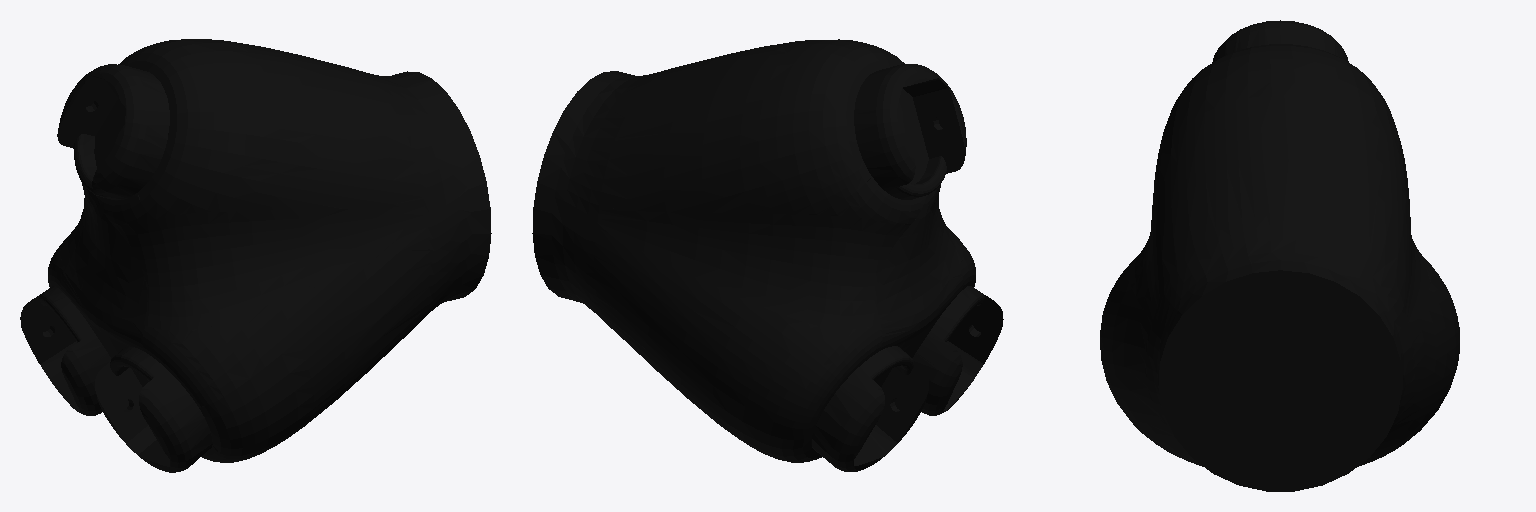
The robot description file, URDF, robot "jaco_robot":
<?xml version="1.0" encoding="utf-8"?>
<!-- =================================================================================== -->
<!-- |    This document was autogenerated by xacro from urdf/jaco_robot.urdf.xacro     | -->
<!-- |    EDITING THIS FILE BY HAND IS NOT RECOMMENDED                                 | -->
<!-- =================================================================================== -->
<robot name="jaco_robot" xmlns:controller="http://playerstage.sourceforge.net/gazebo/xmlschema/#controller" xmlns:interface="http://playerstage.sourceforge.net/gazebo/xmlschema/#interface" xmlns:sensor="http://playerstage.sourceforge.net/gazebo/xmlschema/#sensor">
  <link name="base_link">
  </link>
  <!-- fake cylinder which is actually a box -->
  <!--xacro:macro name="cyl_inertia" params="mass r h ">
      <mass value="${mass}"/>
      <inertia
      ixx="${mass / 12.0 * (r*r + h*h)}" ixy="0.0" ixz="0.0"
      iyy="${mass / 12.0 * (h*h + r*r)}" iyz="0.0"
      izz="${mass / 12.0 * (r*r + r*r)}"/>
  </xacro:macro-->
  <!-- ***************** MODEL CORRECTIONS ************************* -->
  <!-- *************************************************************** -->
  <!-- from measurements, pitch is -0.2293 -->
  <!-- MODEL_FIX transforms from wrist to finger mounts -->
  <!--<xacro:property name="f_thb_m_xyz" value=" 0.037  0.001  0.106" />
  <xacro:property name="f_idx_m_xyz" value="-0.034  0.022 0.106" />
  <xacro:property name="f_pnk_m_xyz" value="-0.034 -0.022 0.106" />
  <xacro:property name="f_thb_m_rpy" value="0 -0.2658 ${M_PI-0.226892}" /> 
  <xacro:property name="f_idx_m_rpy" value="0 -0.2293 -0.191986" />
  <xacro:property name="f_pnk_m_rpy" value="0 -0.2293 0.191986" />-->

  <joint name="jaco_arm_joint" type="fixed">
    <origin rpy="0 0 0" xyz="0 0 0"/>
    <parent link="base_link"/>
    <child link="jaco_6_hand_limb"/>
  </joint>

  <link name="jaco_6_hand_limb">
    <inertial>
      <origin rpy="0 0 0" xyz="-0.0555917045329114 -7.25586546752172E-05 -0.00317411883668722"/>
      <mass value="0.2"/>
      <inertia ixx="0.0007852635256" ixy="0" ixz="0" iyy="0.0007852635256" iyz="0" izz="0.00121"/>
    </inertial>
    <visual>
      <origin rpy="0 0 0" xyz="0 0 0"/>
      <geometry>
        <mesh filename="./meshes/jaco2/6_hand_limb.STL" scale="1.0 1.0 1.0"/>
      </geometry>
      <material name="">
        <color rgba="0.1 0.1 0.1 1"/>
      </material>
    </visual>

    <collision>
      <origin rpy="0 0 0" xyz="0 0 0"/>
      <geometry>
        <mesh filename="./meshes/jaco2/6_hand_limb.STL" scale="1.0 1.0 1.0"/>
      </geometry>
    </collision>
  </link>


  <link name="jaco_fingers_base_link">
    <inertial>
      <origin rpy="0 0 0" xyz="0 0 0"/>
      <mass value="0.001"/>
      <inertia ixx="3.33332e-08" ixy="0" ixz="0" iyy="3.33332e-08" iyz="0" izz="5e-08"/>
    </inertial>
  </link>
  <!-- this joint is only to align the coordinate system with the kinova specification frame -->
  <joint name="jaco_fingers_base_joint" type="fixed">
    <origin rpy="-1.57079632679 3.14159265359 1.57079632679" xyz="0 0 0"/>
    <parent link="jaco_6_hand_limb"/>
    <child link="jaco_fingers_base_link"/>
  </joint>

  <!-- ...........................  -->
  <!--      FINGERS          -->
  <!-- ...........................  -->
  <link name="jaco_7_finger_mount_index">
    <inertial>
      <origin rpy="0 0 0" xyz="0 0.00706399246397285 -0.00176078508424846"/>
      <mass value="0.006465"/>
      <inertia ixx="7.8441686232e-07" ixy="0" ixz="0" iyy="7.8441686232e-07" iyz="0" izz="1.04733e-06"/>
    </inertial>
    <visual>
      <origin rpy="1.57079632679 0 1.57079632679" xyz="0 0 0"/>
      <geometry>
        <mesh filename="./meshes/jaco2/7_finger_mount_index.STL"/>
      </geometry>
      <material name="">
        <color rgba="0.5 0.5 0.5 1"/>
      </material>
    </visual>
    <collision>
      <origin rpy="1.57079632679 0 1.57079632679" xyz="0 0 0"/>
      <geometry>
        <mesh filename="./meshes/jaco2/7_finger_mount_index.STL"/>
      </geometry>
    </collision>
  </link>
  <joint name="jaco_finger_mount_index_fixed" type="fixed">
    <!--- remark 2014: damping greater than 0.1 (0.2) lead to model break downs when testing it bit by bit -->
    <!--- remark jan 2016: damping and friction higher than 0.005 required very high forces in order for the fingers
              to move at all, and then they mooved only slowly. -->
    <!--dynamics damping="0.1" friction="1.0"/-->
    <dynamics damping="0.005" friction="0.005"/>
    <origin rpy="0 -0.2293 -0.191986" xyz="-0.034  0.022 0.095"/>
    <parent link="jaco_fingers_base_link"/>
    <child link="jaco_7_finger_mount_index"/>
    <axis xyz="0 0 0"/>
  </joint>
  <!-- ...........................        -->
  <link name="jaco_8_finger_index">
    <inertial>
      <origin rpy="0 0 0" xyz="-0.0181403689626489 0 0.00272470933850985"/>
      <mass value="0.01845"/>
      <inertia ixx="6.37560262249e-06" ixy="0" ixz="0" iyy="6.37560262249e-06" iyz="0" izz="1.68125625e-06"/>
    </inertial>
    <!--     <visual>
      <origin xyz="0 0 0" rpy="0 0 0" />
      <geometry>
        <sphere radius="0.005"/>
      </geometry>
      <material name="">
        <color rgba="0.10 0.10 0.10 1" />
      </material>
    </visual>
-->
    <visual>
      <origin rpy="3.14159265359 1.1780972445 0" xyz="0 0 0"/>
      <geometry>
        <mesh filename="./meshes/jaco2/8_finger_index.STL"/>
      </geometry>
      <material name="">
        <color rgba="0.50 0.50 0.50 1"/>
      </material>
    </visual>
    <collision>
      <origin rpy="3.14159265359 1.1780972445 0" xyz="0 0 0"/>
      <geometry>
        <mesh filename="./meshes/jaco2/8_finger_index.STL"/>
      </geometry>
    </collision>
  </link>
  <joint name="jaco_finger_joint_0" type="revolute">
    <!--- remark 2014: damping greater than 0.1 (0.2) lead to model break downs when testing it bit by bit -->
    <!--- remark jan 2016: damping and friction higher than 0.005 required very high forces in order for the fingers
              to move at all, and then they mooved only slowly. -->
    <!--dynamics damping="0.1" friction="1.0"/-->
    <dynamics damping="0.005" friction="0.005"/>
    <origin rpy="0 -0.34 -0.191986" xyz="-0.0276  0.0204 0.11"/>
    <parent link="jaco_fingers_base_link"/>
    <child link="jaco_8_finger_index"/>
    <axis xyz="0 1 0"/>
    <limit effort="1.5" lower="-0.0045" upper="1.05" velocity="0.2"/>
  </joint>
  <!-- ...........................        -->
  <link name="jaco_9_finger_index_tip">
    <inertial>
      <origin rpy="0 0 0" xyz="-0.01340812509202 -4.52693266978291E-07 0.0118561361126153"/>
      <mass value="0.0122"/>
      <inertia ixx="2.6850059266e-06" ixy="0" ixz="0" iyy="2.6850059266e-06" iyz="0" izz="8.784e-07"/>
    </inertial>
    <!--     <visual>
      <origin xyz="0 0 0" rpy="0 0 0" />
      <geometry>
        <sphere radius="0.005"/>
      </geometry>
      <material name="">
        <color rgba="0.10 0.10 0.10 1" />
      </material>
    </visual>
-->
    <visual>
      <origin rpy="0 1.57079632679 3.14159265359" xyz="0 0 0"/>
      <geometry>
        <mesh filename="./meshes/jaco2/9_finger_index_tip.STL" scale="1 1 1"/>
      </geometry>
      <material name="">
        <color rgba="0.5 0.5 0.5 1"/>
      </material>
    </visual>
    <collision>
      <origin rpy="0 1.57079632679 3.14159265359" xyz="0 0 0"/>
      <geometry>
        <mesh filename="./meshes/jaco2/9_finger_index_tip.STL" scale="1 1 1"/>
      </geometry>
    </collision>
  </link>
  <joint name="jaco_finger_joint_1" type="fixed">
    <!--- remark 2014: damping greater than 0.1 (0.2) lead to model break downs when testing it bit by bit -->
    <!--- remark jan 2016: damping and friction higher than 0.005 required very high forces in order for the fingers
              to move at all, and then they mooved only slowly. -->
    <!--dynamics damping="0.1" friction="1.0"/-->
    <dynamics damping="0.005" friction="0.005"/>
    <origin rpy="0 0 0" xyz="0 0 0.0441"/>
    <parent link="jaco_8_finger_index"/>
    <child link="jaco_9_finger_index_tip"/>
  </joint>
  <!-- ...........................        -->
  <link name="jaco_7_finger_mount_thumb">
    <inertial>
      <origin rpy="0 0 0" xyz="-2.65251193937339E-07 0.00706398229186052 -0.00176078674955921"/>
      <mass value="0.006465"/>
      <inertia ixx="7.8441686232e-07" ixy="0" ixz="0" iyy="7.8441686232e-07" iyz="0" izz="1.04733e-06"/>
    </inertial>
    <visual>
      <origin rpy="1.57079632679 0 1.57079632679" xyz="0 0 0"/>
      <geometry>
        <mesh filename="./meshes/jaco2/7_finger_mount_thumb.STL"/>
      </geometry>
      <material name="">
        <color rgba="0.50 0.50 0.50 1"/>
      </material>
    </visual>
    <collision>
      <origin rpy="1.57079632679 0 1.57079632679" xyz="0 0 0"/>
      <geometry>
        <mesh filename="./meshes/jaco2/7_finger_mount_thumb.STL"/>
      </geometry>
    </collision>
  </link>
  <joint name="jaco_finger_mount_thumb_fixed" type="fixed">
    <!--- remark 2014: damping greater than 0.1 (0.2) lead to model break downs when testing it bit by bit -->
    <!--- remark jan 2016: damping and friction higher than 0.005 required very high forces in order for the fingers
              to move at all, and then they mooved only slowly. -->
    <!--dynamics damping="0.1" friction="1.0"/-->
    <dynamics damping="0.005" friction="0.005"/>
    <origin rpy="0 -0.2658 2.91470065359" xyz=" 0.037  0.001  0.095"/>
    <parent link="jaco_fingers_base_link"/>
    <child link="jaco_7_finger_mount_thumb"/>
  </joint>
  <!-- ...........................        -->
  <link name="jaco_8_finger_thumb">
    <inertial>
      <origin rpy="0 0 0" xyz="-0.0181403317517619 -3.13818432741766E-07 0.00272473343106584"/>
      <mass value="0.0184"/>
      <inertia ixx="6.3583245666e-06" ixy="0" ixz="0" iyy="6.3583245666e-06" iyz="0" izz="1.6767e-06"/>
    </inertial>
    <!--     <visual>
      <origin xyz="0 0 0" rpy="0 0 0" />
      <geometry>
        <sphere radius="0.005"/>
      </geometry>
      <material name="">
        <color rgba="0.10 0.10 0.10 1" />
      </material>
    </visual>
-->
    <visual>
      <origin rpy="3.14159265359 1.1780972445 0" xyz="0 0 0"/>
      <geometry>
        <mesh filename="./meshes/jaco2/8_finger_thumb.STL"/>
      </geometry>
      <material name="">
        <color rgba="0.5 0.5 0.5 1"/>
      </material>
    </visual>
    <collision>
      <origin rpy="3.14159265359 1.1780972445 0" xyz="0 0 0"/>
      <geometry>
        <mesh filename="./meshes/jaco2/8_finger_thumb.STL"/>
      </geometry>
    </collision>
  </link>
  <joint name="jaco_finger_joint_2" type="revolute">
    <!--- remark 2014: damping greater than 0.1 (0.2) lead to model break downs when testing it bit by bit -->
    <!--- remark jan 2016: damping and friction higher than 0.005 required very high forces in order for the fingers
              to move at all, and then they mooved only slowly. -->
    <!--dynamics damping="0.1" friction="1.0"/-->
    <dynamics damping="0.005" friction="0.005"/>
    <origin rpy="0 -0.37 2.91470065359" xyz=" 0.0319  0.003  0.11"/>
    <parent link="jaco_fingers_base_link"/>
    <child link="jaco_8_finger_thumb"/>
    <axis xyz="0 1 0"/>
    <limit effort="1.5" lower="-0.0045" upper="1.05" velocity="0.2"/>
  </joint>
  <!-- ...........................        -->
  <link name="jaco_9_finger_thumb_tip">
    <inertial>
      <origin rpy="0 0 0" xyz="-0.0134080639046228 -4.56622786070351E-07 0.0118561154422042"/>
      <mass value="0.0122"/>
      <inertia ixx="2.6850059266e-06" ixy="0" ixz="0" iyy="2.6850059266e-06" iyz="0" izz="8.784e-07"/>
    </inertial>
    <visual>
      <origin rpy="0 1.57079632679 3.14159265359" xyz="0 0 0"/>
      <geometry>
        <mesh filename="./meshes/jaco2/9_finger_thumb_tip.STL" scale="1 1 1"/>
      </geometry>
      <material name="">
        <color rgba="0.5 0.5 0.5 1"/>
      </material>
    </visual>
    <collision>
      <origin rpy="0 1.57079632679 3.14159265359" xyz="0 0 0"/>
      <geometry>
        <mesh filename="./meshes/jaco2/9_finger_thumb_tip.STL" scale="1 1 1"/>
      </geometry>
    </collision>
  </link>
  <joint name="jaco_finger_joint_3" type="fixed">
    <!--- remark 2014: damping greater than 0.1 (0.2) lead to model break downs when testing it bit by bit -->
    <!--- remark jan 2016: damping and friction higher than 0.005 required very high forces in order for the fingers
              to move at all, and then they mooved only slowly. -->
    <!--dynamics damping="0.1" friction="1.0"/-->
    <dynamics damping="0.005" friction="0.005"/>
    <origin rpy="0 0 0" xyz="0 0 0.0441"/>
    <parent link="jaco_8_finger_thumb"/>
    <child link="jaco_9_finger_thumb_tip"/>
  </joint>
  <!-- ...........................        -->
  <link name="jaco_7_finger_mount_pinkie">
    <inertial>
      <origin rpy="0 0 0" xyz="0 0.00706399455294665 -0.00176077690193762"/>
      <mass value="0.00646"/>
      <inertia ixx="7.8381019808e-07" ixy="0" ixz="0" iyy="7.8381019808e-07" iyz="0" izz="1.04652e-06"/>
    </inertial>
    <visual>
      <origin rpy="1.57079632679 0 1.57079632679" xyz="0 0 0"/>
      <geometry>
        <mesh filename="./meshes/jaco2/7_finger_mount_pinkie.STL"/>
      </geometry>
      <material name="">
        <color rgba="0.5 0.5 0.5 1"/>
      </material>
    </visual>
    <collision>
      <origin rpy="1.57079632679 0 1.57079632679" xyz="0 0 0"/>
      <geometry>
        <mesh filename="./meshes/jaco2/7_finger_mount_pinkie.STL"/>
      </geometry>
    </collision>
  </link>
  <joint name="jaco_finger_mount_pinkie_fixed" type="fixed">
    <!--- remark 2014: damping greater than 0.1 (0.2) lead to model break downs when testing it bit by bit -->
    <!--- remark jan 2016: damping and friction higher than 0.005 required very high forces in order for the fingers
              to move at all, and then they mooved only slowly. -->
    <!--dynamics damping="0.1" friction="1.0"/-->
    <dynamics damping="0.005" friction="0.005"/>
    <origin rpy="0 -0.2293 0.191986" xyz="-0.034 -0.022 0.095"/>
    <parent link="jaco_fingers_base_link"/>
    <child link="jaco_7_finger_mount_pinkie"/>
  </joint>
  <!-- ...........................        -->
  <link name="jaco_8_finger_pinkie">
    <inertial>
      <origin rpy="0 0 0" xyz="-0.0181404164708055 -2.87009015777565E-07 0.00272467774606585"/>
      <mass value="0.01845"/>
      <inertia ixx="6.37560262249e-06" ixy="0" ixz="0" iyy="6.37560262249e-06" iyz="0" izz="1.68125625e-06"/>
    </inertial>
    <!--     <visual>
      <origin xyz="0 0 0" rpy="0 0 0" />
      <geometry>
        <sphere radius="0.005"/>
      </geometry>
      <material name="">
        <color rgba="0.10 0.10 0.10 1" />
      </material>
    </visual>
-->
    <visual>
      <origin rpy="3.14159265359 1.1780972445 0" xyz="0 0 0"/>
      <geometry>
        <mesh filename="./meshes/jaco2/8_finger_pinkie.STL"/>
      </geometry>
      <material name="">
        <color rgba="0.5 0.5 0.5 1"/>
      </material>
    </visual>
    <collision>
      <origin rpy="3.14159265359 1.1780972445 0" xyz="0 0 0"/>
      <geometry>
        <mesh filename="./meshes/jaco2/8_finger_pinkie.STL"/>
      </geometry>
    </collision>
  </link>
  <joint name="jaco_finger_joint_4" type="revolute">
    <!--- remark 2014: damping greater than 0.1 (0.2) lead to model break downs when testing it bit by bit -->
    <!--- remark jan 2016: damping and friction higher than 0.005 required very high forces in order for the fingers
              to move at all, and then they mooved only slowly. -->
    <!--dynamics damping="0.1" friction="1.0"/-->
    <dynamics damping="0.005" friction="0.005"/>
    <origin rpy="0 -0.34 0.191986" xyz="-0.0276 -0.0204 0.11"/>
    <parent link="jaco_fingers_base_link"/>
    <child link="jaco_8_finger_pinkie"/>
    <axis xyz="0 1 0"/>
    <limit effort="1.5" lower="-0.0045" upper="1.05" velocity="0.2"/>
  </joint>
  <!-- ...........................        -->
  <link name="jaco_9_finger_pinkie_tip">
    <inertial>
      <origin rpy="0 0 0" xyz="-0.0134 0 0.01185"/>
      <mass value="0.0122"/>
      <inertia ixx="2.6850059266e-06" ixy="0" ixz="0" iyy="2.6850059266e-06" iyz="0" izz="8.784e-07"/>
    </inertial>
    <visual>
      <origin rpy="0 1.57079632679 3.14159265359" xyz="0 0 0"/>
      <geometry>
        <mesh filename="./meshes/jaco2/9_finger_pinkie_tip.STL" scale="1 1 1"/>
      </geometry>
      <material name="">
        <color rgba="0.5 0.5 0.5 1"/>
      </material>
    </visual>
    <collision>
      <origin rpy="0 1.57079632679 3.14159265359" xyz="0 0 0"/>
      <geometry>
        <mesh filename="./meshes/jaco2/9_finger_pinkie_tip.STL" scale="1 1 1"/>
      </geometry>
    </collision>
  </link>
  <joint name="jaco_finger_joint_5" type="fixed">
    <!--- remark 2014: damping greater than 0.1 (0.2) lead to model break downs when testing it bit by bit -->
    <!--- remark jan 2016: damping and friction higher than 0.005 required very high forces in order for the fingers
              to move at all, and then they mooved only slowly. -->
    <!--dynamics damping="0.1" friction="1.0"/-->
    <dynamics damping="0.005" friction="0.005"/>
    <origin rpy="0 0 0" xyz="0 0 0.0441"/>
    <parent link="jaco_8_finger_pinkie"/>
    <child link="jaco_9_finger_pinkie_tip"/>
  </joint>
</robot>

--- Render facts (derived) ---
Views: 3 orthographic renders of the robot side by side, from view 1: azimuth 30°, elevation 25°; view 2: azimuth 150°, elevation 25°; view 3: azimuth 270°, elevation 25°.
Robot: jaco_robot — 12 links, 11 joints (3 revolute, 8 fixed); root link base_link; default pose: all joints at 0.
Links seen in each view (by area): view 1: jaco_6_hand_limb; view 2: jaco_6_hand_limb; view 3: jaco_6_hand_limb.
Boxes of the visible links, x1,y1,x2,y2 form: jaco_6_hand_limb: (20, 39, 491, 472); jaco_6_hand_limb: (532, 39, 1003, 471); jaco_6_hand_limb: (1100, 20, 1459, 491).
Bounding box of the posed robot: 0.1113 × 0.0928 × 0.1164 m (x, y, z).
1 mesh visuals loaded from 10 distinct referenced files (1 binary STL); not drawn: 9 (reference not matched to a file when rendering).